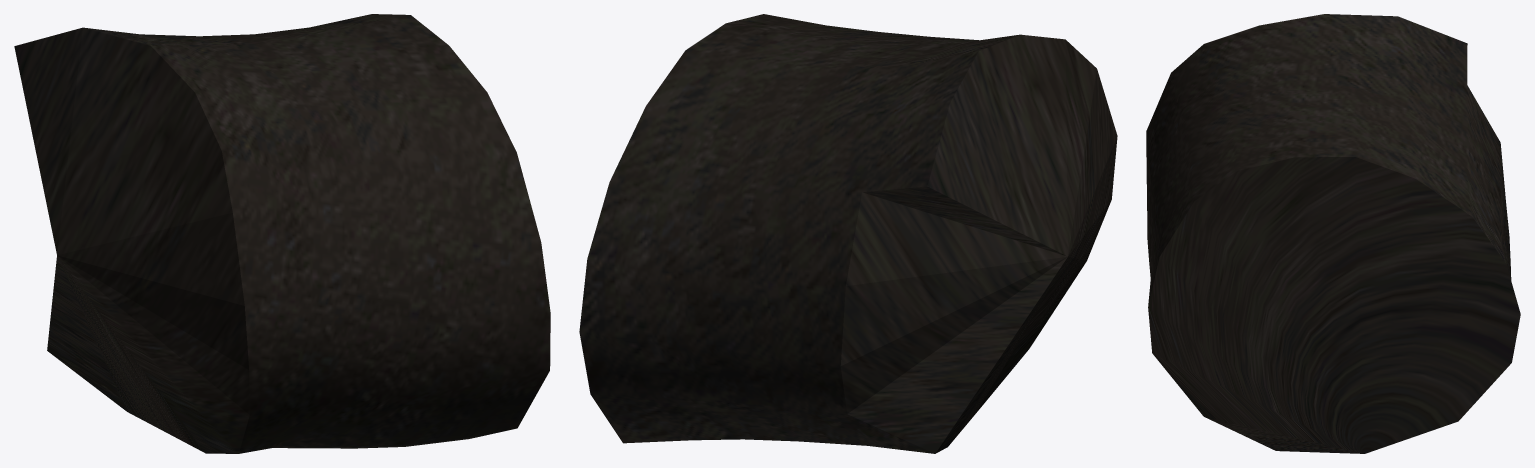
File: BicepIzq.obj
3 views of the same model, side by side, from view 1: azimuth 30°, elevation 25°; view 2: azimuth 150°, elevation 25°; view 3: azimuth 270°, elevation 25° (orthographic). The views are drawn at different scales.
Parts seen in each view (by area): view 1: polySurface1 Po:Mesh; view 2: polySurface1 Po:Mesh; view 3: polySurface1 Po:Mesh.
Boxes of the visible parts, bbox=[...] form: polySurface1 Po:Mesh: bbox=[14, 14, 550, 453]; polySurface1 Po:Mesh: bbox=[579, 14, 1117, 453]; polySurface1 Po:Mesh: bbox=[1146, 14, 1520, 453].
Size of the model in its own units: 0.4393 by 0.4921 by 0.4979.
1 material, 1 textured.
